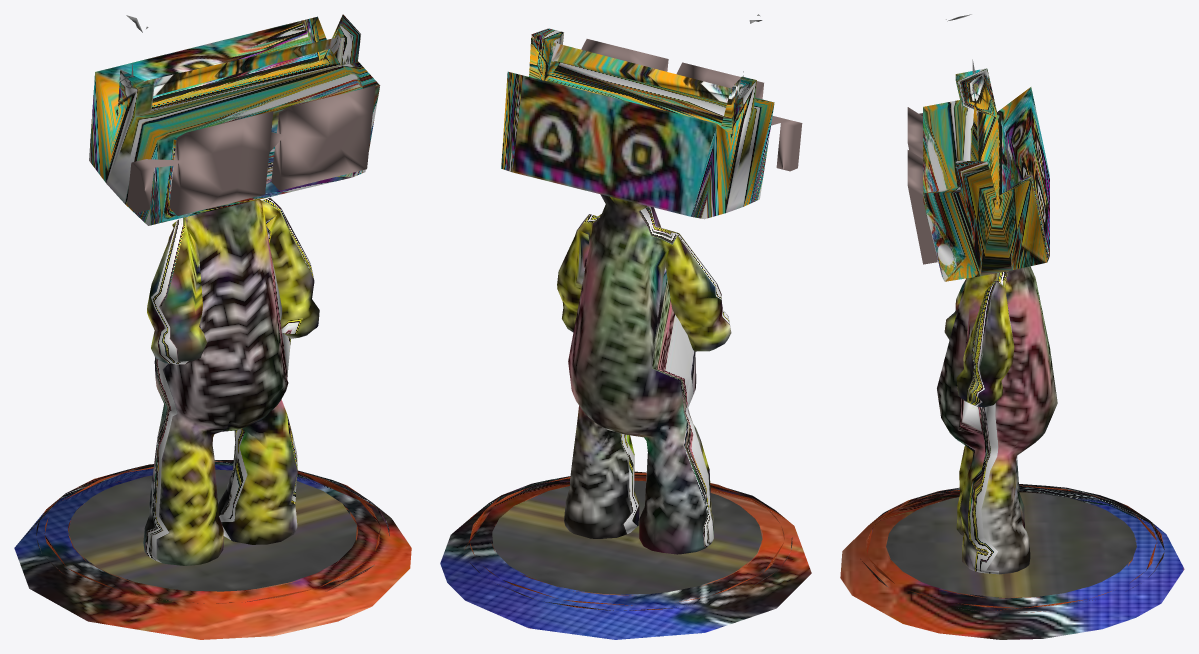
3 views of the same model, side by side, from view 1: azimuth 30°, elevation 25°; view 2: azimuth 150°, elevation 25°; view 3: azimuth 270°, elevation 25° (orthographic). The views are drawn at different scales.
Bounding box in the file's own units: 1.44 × 2.34 × 1.44.
Materials: 6 (5 with a texture image).
